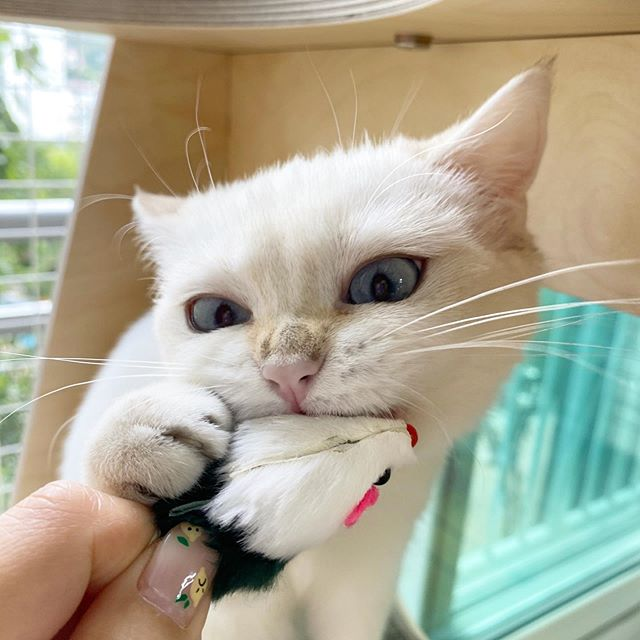cat: (117, 64, 557, 483)
